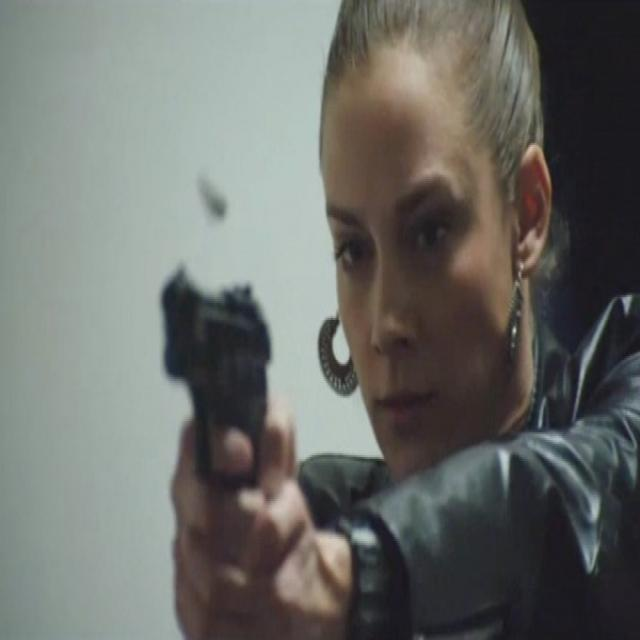weapons: (153, 251, 286, 576)
